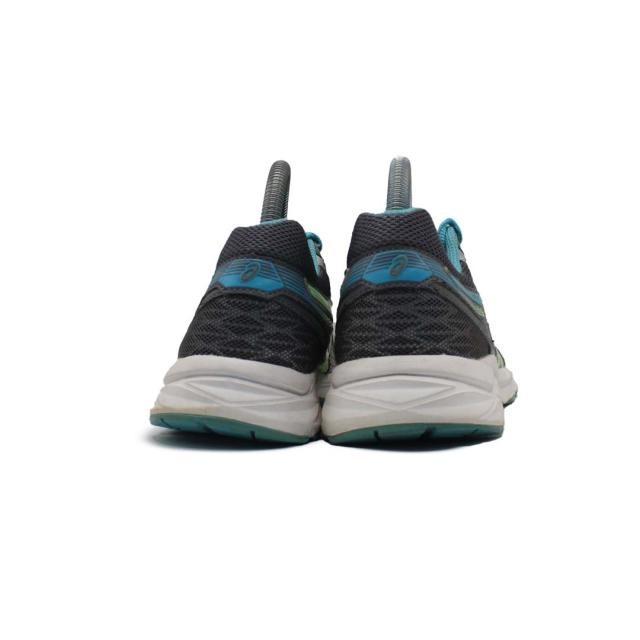heel: (185, 186, 321, 372), (340, 210, 484, 358)
midsole: (136, 354, 317, 444), (324, 363, 507, 438)
